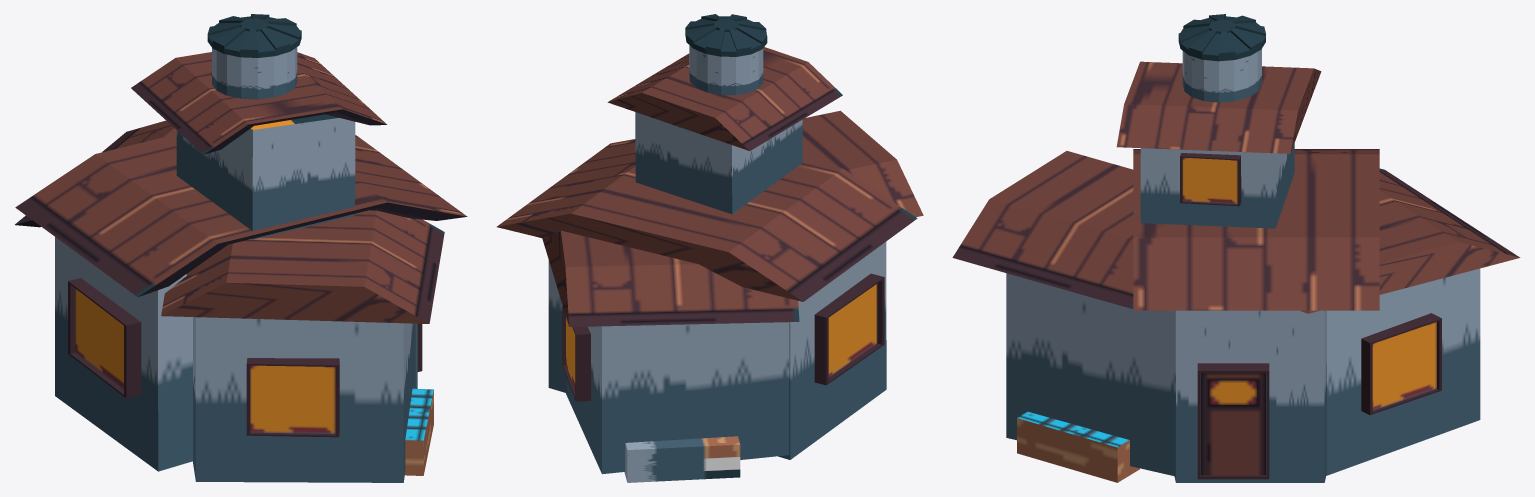
Rendered from CasaS2.fbx.
The picture shows the model from 3 angles, left to right: view 1: azimuth 30°, elevation 25°; view 2: azimuth 150°, elevation 25°; view 3: azimuth 270°, elevation 25°; orthographic projection. The views are drawn at different scales.
Visible parts, largest first — view 1: Casa 2; view 2: Casa 2; view 3: Casa 2.
Part boxes in pixels (x1,y1,x2,y2): Casa 2: [15, 14, 467, 482]; Casa 2: [497, 14, 923, 482]; Casa 2: [952, 14, 1520, 482].
Size of the model in its own units: 705 by 1047 by 803.
